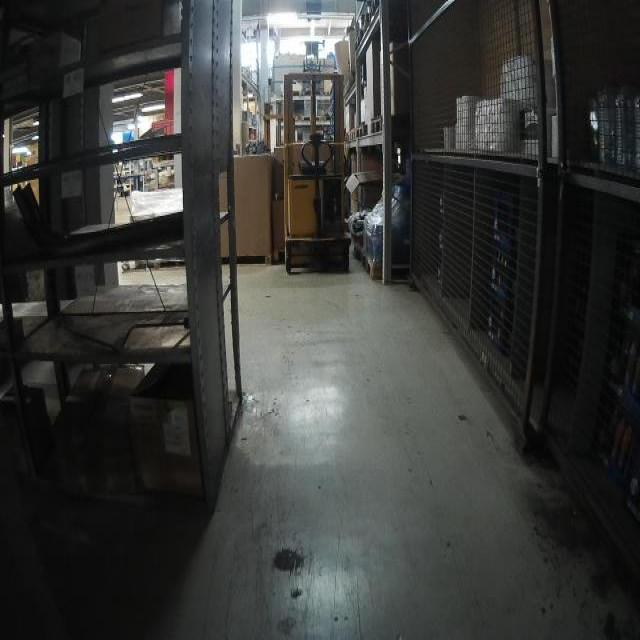pallet: (362, 249, 411, 283), (370, 112, 409, 137), (218, 252, 272, 269), (354, 123, 368, 140), (302, 114, 322, 124), (323, 114, 337, 123)
pallet_truck: (283, 72, 352, 276)
